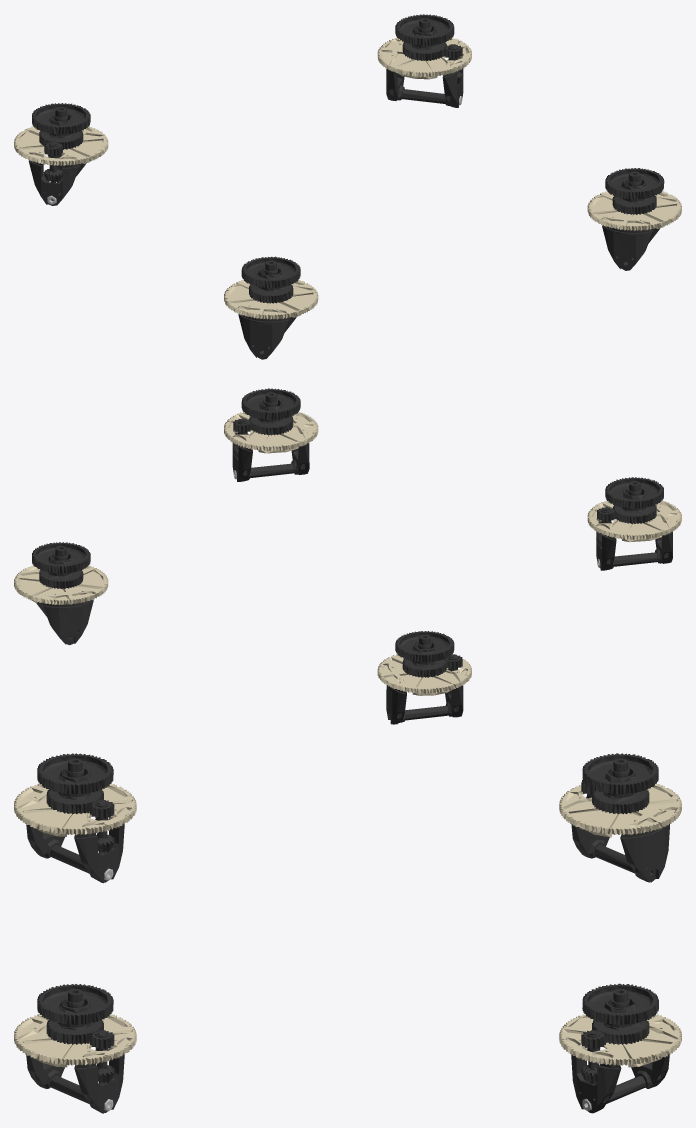
The model's file is 8793-steer.glb.
3 renders of one model, top to bottom at view 1: azimuth 30°, elevation 25°; view 2: azimuth 150°, elevation 25°; view 3: azimuth 270°, elevation 25°, orthographic. The views are drawn at different scales.
Parts seen in each view (by area): view 1: WCP Swerve X2 Drive Double Gear (54t/40t, Steel) (WCP-1715), WCP Swerve X2 (88t Rotation Gear) (WCP-1712); view 2: WCP Swerve X2 Drive Double Gear (54t/40t, Steel) (WCP-1715), WCP Swerve X2 (88t Rotation Gear) (WCP-1712); view 3: WCP Swerve X2 Drive Double Gear (54t/40t, Steel) (WCP-1715), WCP Swerve X2 (88t Rotation Gear) (WCP-1712).
Part boxes in pixels (left/top/right/bottom): WCP Swerve X2 Drive Double Gear (54t/40t, Steel) (WCP-1715): left=28, top=14, right=664, bottom=359; WCP Swerve X2 (88t Rotation Gear) (WCP-1712): left=14, top=37, right=681, bottom=319; WCP Swerve X2 Drive Double Gear (54t/40t, Steel) (WCP-1715): left=32, top=388, right=672, bottom=724; WCP Swerve X2 (88t Rotation Gear) (WCP-1712): left=14, top=411, right=681, bottom=695; WCP Swerve X2 Drive Double Gear (54t/40t, Steel) (WCP-1715): left=26, top=753, right=669, bottom=1113; WCP Swerve X2 (88t Rotation Gear) (WCP-1712): left=14, top=783, right=681, bottom=1067.
Bounding box in the file's own units: 0.6223 × 0.1111 × 0.6223.
